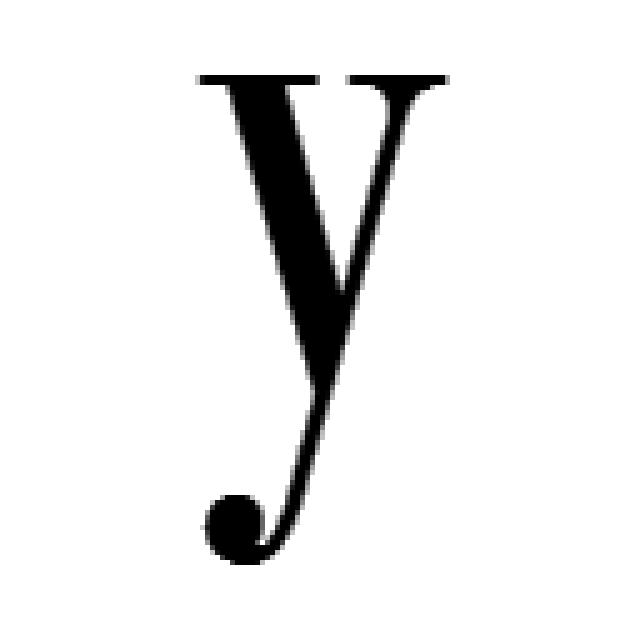Y: (185, 55, 455, 565)
